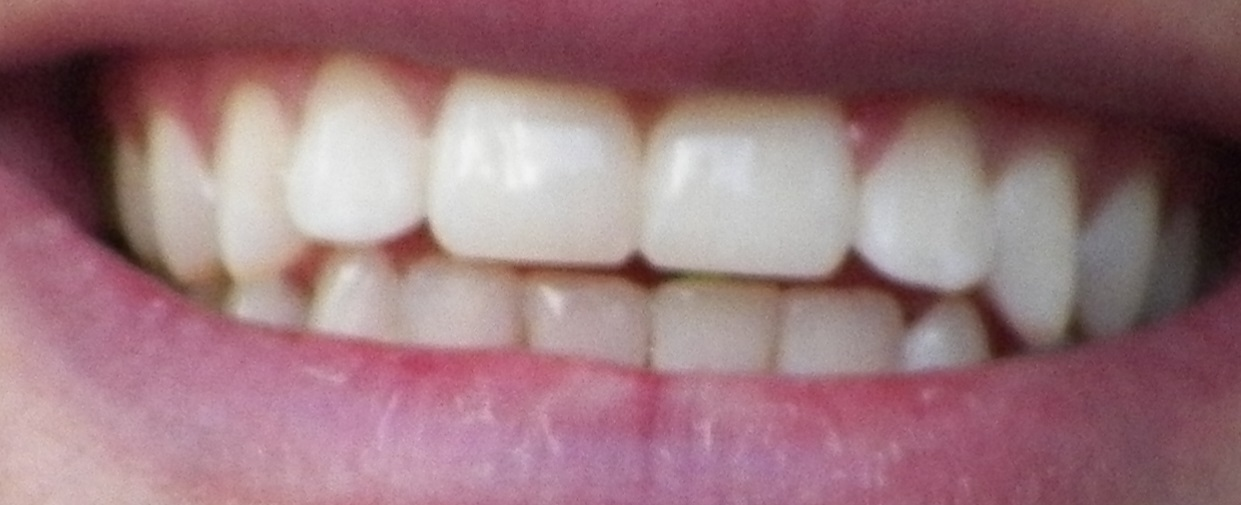boca: (116, 75, 1186, 376)
